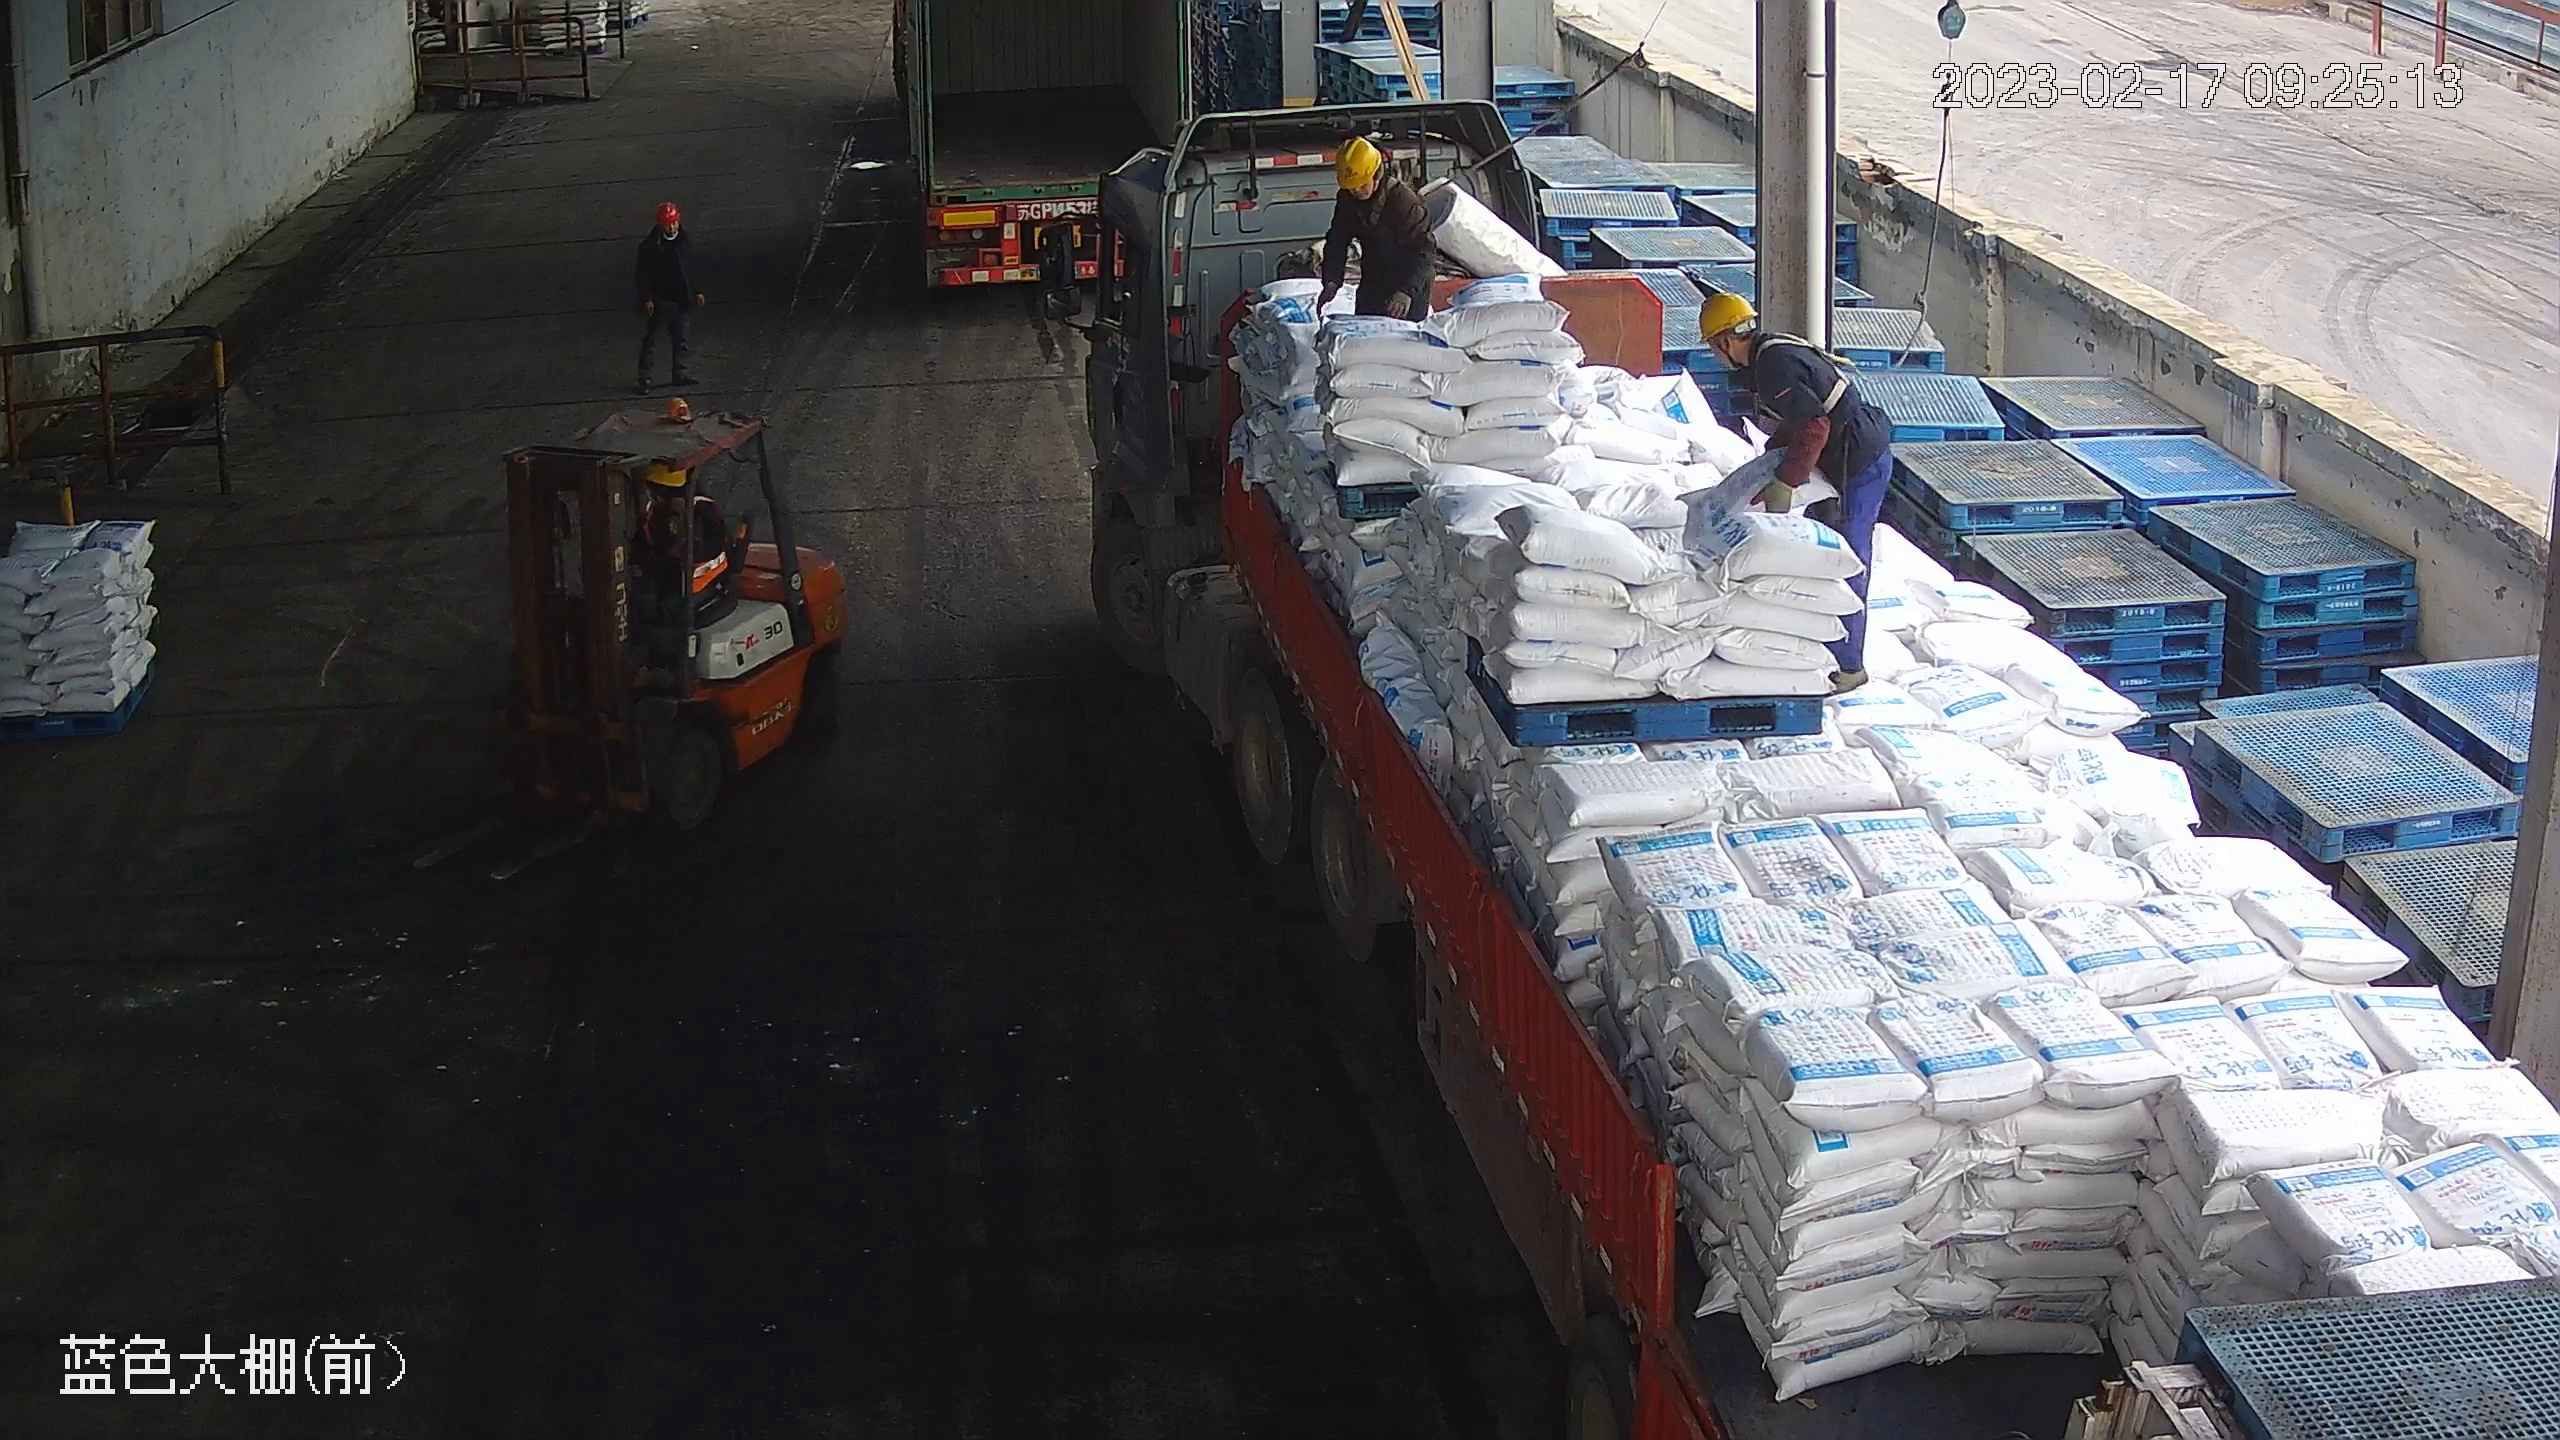belt: (1754, 333, 1856, 418)
head: (1696, 289, 1816, 401), (1332, 140, 1426, 229), (637, 199, 698, 267)
helmet: (1692, 288, 1758, 343), (1332, 134, 1385, 188), (657, 200, 683, 220)
people: (1691, 291, 1899, 694), (1319, 134, 1434, 328), (630, 196, 708, 400)
truck: (1040, 132, 2557, 1440), (885, 1, 1196, 292)
